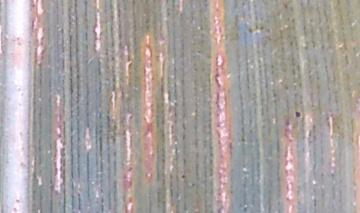tarspot: (292, 108, 304, 121), (179, 171, 188, 183)
